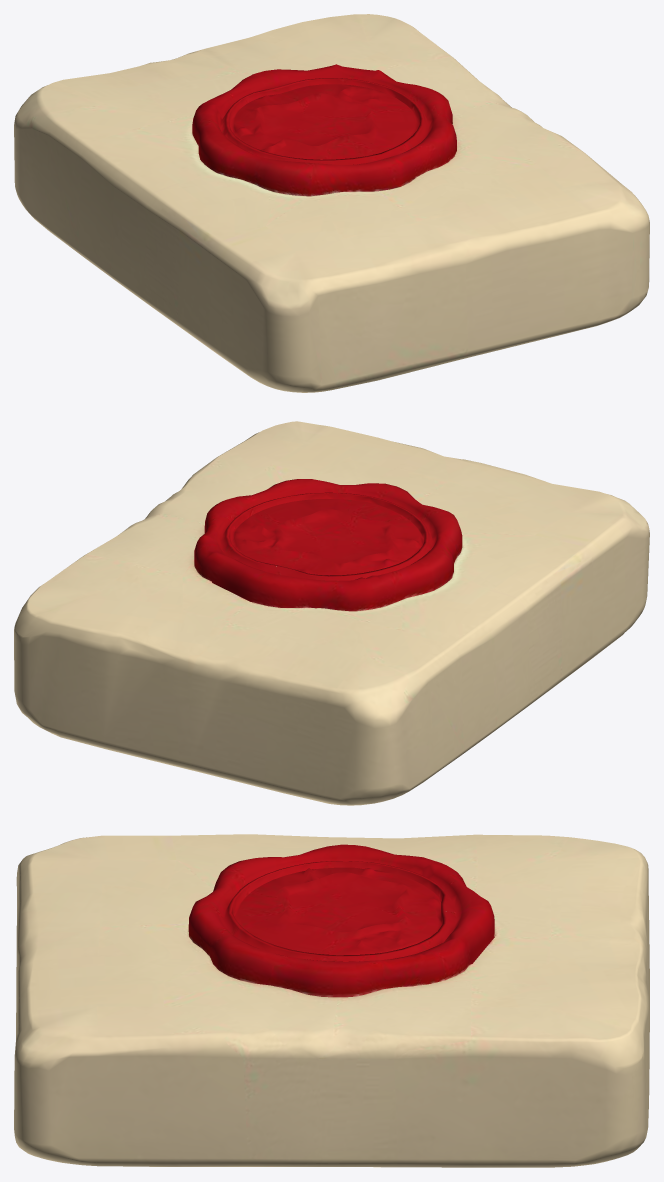
The model's file is paper.glb.
3 views of the same model, one above another, from view 1: azimuth 30°, elevation 25°; view 2: azimuth 150°, elevation 25°; view 3: azimuth 270°, elevation 25° (orthographic). The views are drawn at different scales.
Visible parts, largest first — view 1: tripo_node_6c8d0d5b-acbe-4065-99de-8a1f230b92ed; view 2: tripo_node_6c8d0d5b-acbe-4065-99de-8a1f230b92ed; view 3: tripo_node_6c8d0d5b-acbe-4065-99de-8a1f230b92ed.
Part boxes in pixels (box(x1,y1,x2,y2)): tripo_node_6c8d0d5b-acbe-4065-99de-8a1f230b92ed: box(14, 14, 649, 392); tripo_node_6c8d0d5b-acbe-4065-99de-8a1f230b92ed: box(14, 421, 649, 805); tripo_node_6c8d0d5b-acbe-4065-99de-8a1f230b92ed: box(14, 834, 649, 1167).
Bounding box in the file's own units: 0.7944 × 0.2939 × 0.9995.
1 material, 1 textured.
